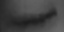LeftEyeFatigue: (4, 6, 60, 32)
